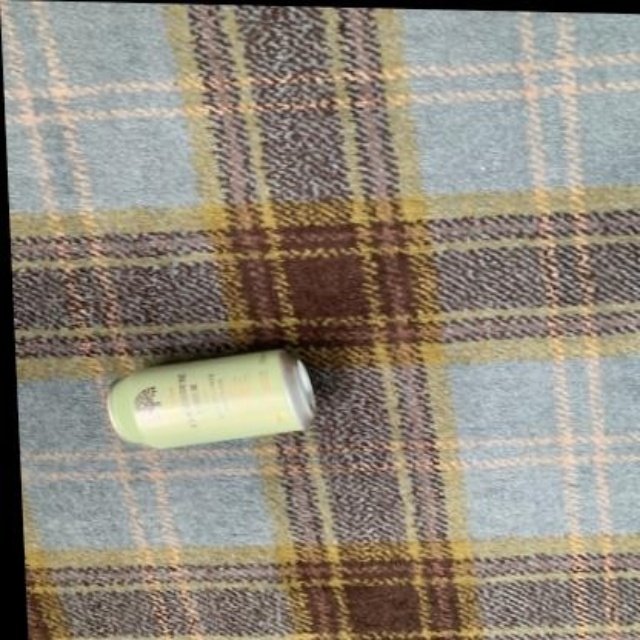trash: (108, 349, 314, 446)
